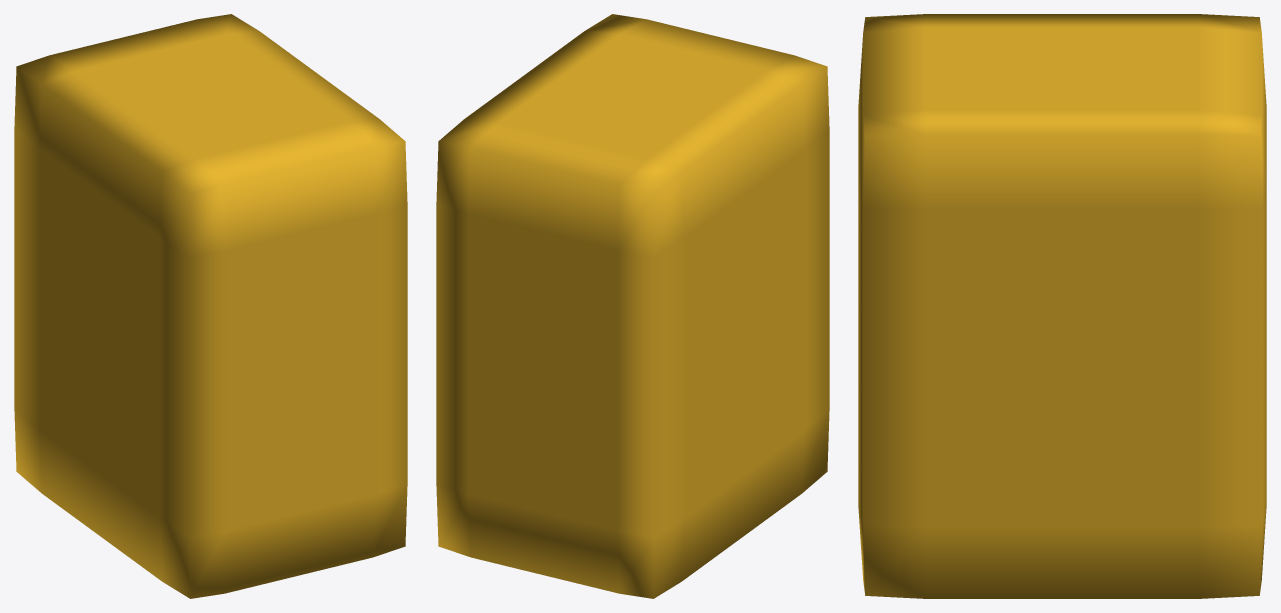
File: 117_s2_butee_0_429.glb
3 views of the same model, side by side, from view 1: azimuth 30°, elevation 25°; view 2: azimuth 150°, elevation 25°; view 3: azimuth 270°, elevation 25° (orthographic). The views are drawn at different scales.
Visible parts, largest first — view 1: AGV_S2_butée_0.429; view 2: AGV_S2_butée_0.429; view 3: AGV_S2_butée_0.429.
Part boxes in pixels (left/top/right/bottom): AGV_S2_butée_0.429: left=14, top=14, right=407, bottom=598; AGV_S2_butée_0.429: left=436, top=14, right=829, bottom=598; AGV_S2_butée_0.429: left=858, top=14, right=1266, bottom=598.
Bounding box in the file's own units: 0.025 × 0.045 × 0.035.
